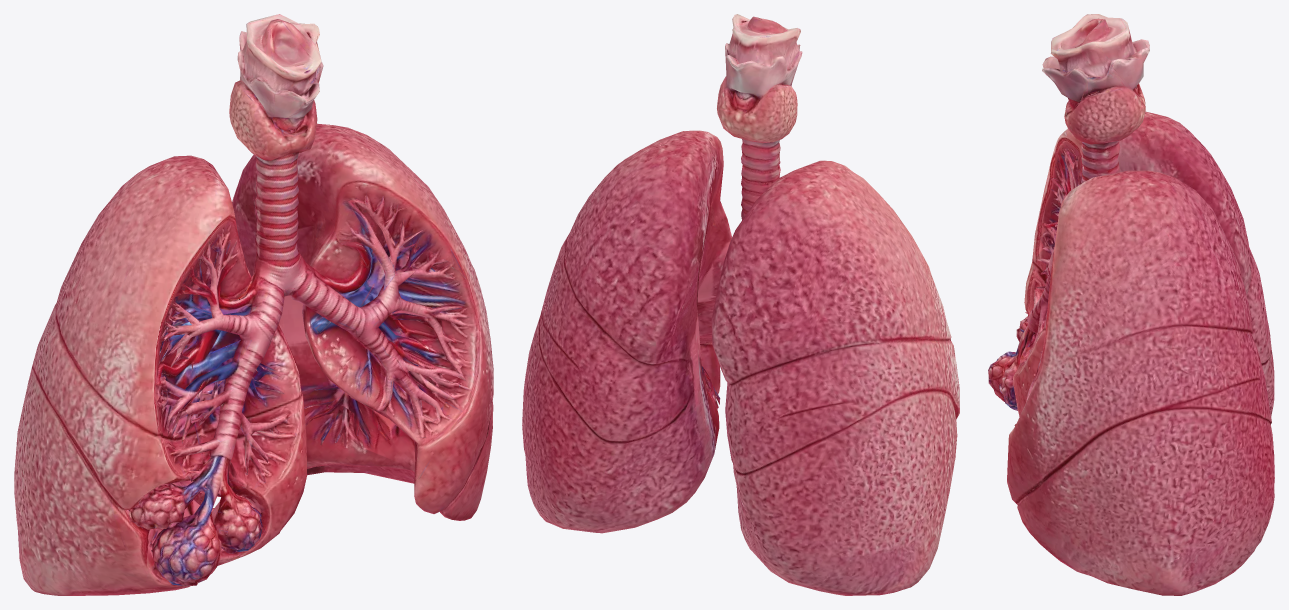
Rendered from lungs.glb.
3 renders of one model, left to right at view 1: azimuth 30°, elevation 25°; view 2: azimuth 150°, elevation 25°; view 3: azimuth 270°, elevation 25°, orthographic. The views are drawn at different scales.
Parts seen in each view (by area): view 1: Mesh1.0; view 2: Mesh1.0; view 3: Mesh1.0.
Boxes of the visible parts, x1,y1,x2,y2 form: Mesh1.0: [14, 14, 493, 595]; Mesh1.0: [522, 14, 959, 595]; Mesh1.0: [988, 14, 1274, 595].
Size of the model in its own units: 1.6 by 1.91 by 1.01.
1 material, 1 textured.
